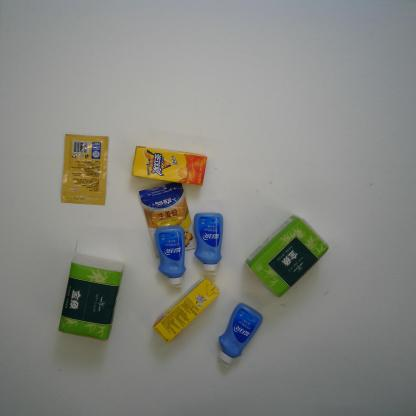Drink: (152, 275, 220, 345), (131, 145, 208, 187)
Personal Hygiene: (218, 302, 263, 368), (154, 224, 186, 289), (193, 211, 224, 275)
Seasoner: (138, 182, 198, 258), (60, 133, 109, 206)
Tissue: (244, 214, 330, 299), (58, 253, 126, 341)
